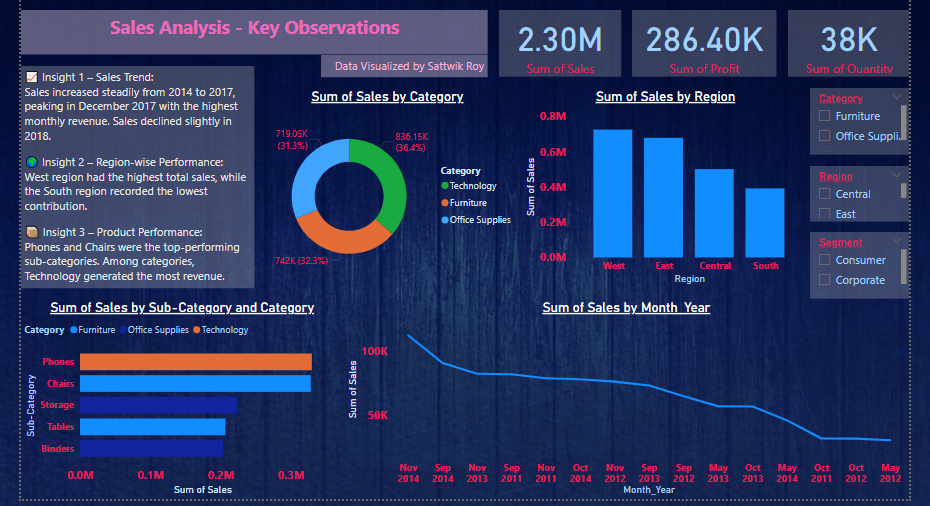

The page's visual inventory and layout, read from the dashboard file:
{"tool":"powerbi","page":{"name":"Page 1","canvas":[1280,720],"ordinal":0},"visuals":[{"type":"lineChart","fields":{"Category":["task_8.Month_Year"],"Y":["Sum(task_8.Sales)"]},"box":[464,432,816,288],"z":0},{"type":"clusteredColumnChart","fields":{"Category":["task_8.Region"],"Y":["Sum(task_8.Sales)"]},"box":[720,128,416,288],"z":1},{"type":"donutChart","fields":{"Category":["task_8.Category"],"Y":["Sum(task_8.Sales)"]},"box":[336,128,384,288],"z":2},{"type":"barChart","fields":{"Category":["task_8.Sub-Category"],"Y":["Sum(task_8.Sales)"],"Series":["task_8.Category"]},"box":[0,432,464,288],"z":3},{"type":"slicer","fields":{"Values":["task_8.Category"]},"box":[1136,128,144,96],"z":4},{"type":"slicer","fields":{"Values":["task_8.Region"]},"box":[1136,240,144,80],"z":5},{"type":"slicer","fields":{"Values":["task_8.Segment"]},"box":[1136,336,144,96],"z":6},{"type":"card","fields":{"Values":["Sum(task_8.Sales)"]},"box":[688,16,176,96],"z":7},{"type":"card","fields":{"Values":["Sum(task_8.Profit)"]},"box":[880,16,208,96],"z":8},{"type":"card","fields":{"Values":["Sum(task_8.Quantity)"]},"box":[1104,16,176,96],"z":9},{"type":"textbox","box":[0,96,336,320],"z":10},{"type":"textbox","box":[0,16,672,64],"z":11},{"type":"textbox","box":[432,80,240,32],"z":12}]}

Visuals, with their boxes on the page's 1280x720 design canvas (x1, y1, x2, y2). These are canvas units, not pixel positions in the 930x506 screenshot, which may show the page scaled, cropped or inside an application window:
lineChart - task_8.Month_Year x Sum(task_8.Sales): [left=464, top=432, right=1280, bottom=720]
clusteredColumnChart - task_8.Region x Sum(task_8.Sales): [left=720, top=128, right=1136, bottom=416]
donutChart - task_8.Category x Sum(task_8.Sales): [left=336, top=128, right=720, bottom=416]
barChart - task_8.Sub-Category x Sum(task_8.Sales): [left=0, top=432, right=464, bottom=720]
slicer - task_8.Category: [left=1136, top=128, right=1280, bottom=224]
slicer - task_8.Region: [left=1136, top=240, right=1280, bottom=320]
slicer - task_8.Segment: [left=1136, top=336, right=1280, bottom=432]
card - Sum(task_8.Sales): [left=688, top=16, right=864, bottom=112]
card - Sum(task_8.Profit): [left=880, top=16, right=1088, bottom=112]
card - Sum(task_8.Quantity): [left=1104, top=16, right=1280, bottom=112]
textbox: [left=0, top=96, right=336, bottom=416]
textbox: [left=0, top=16, right=672, bottom=80]
textbox: [left=432, top=80, right=672, bottom=112]
